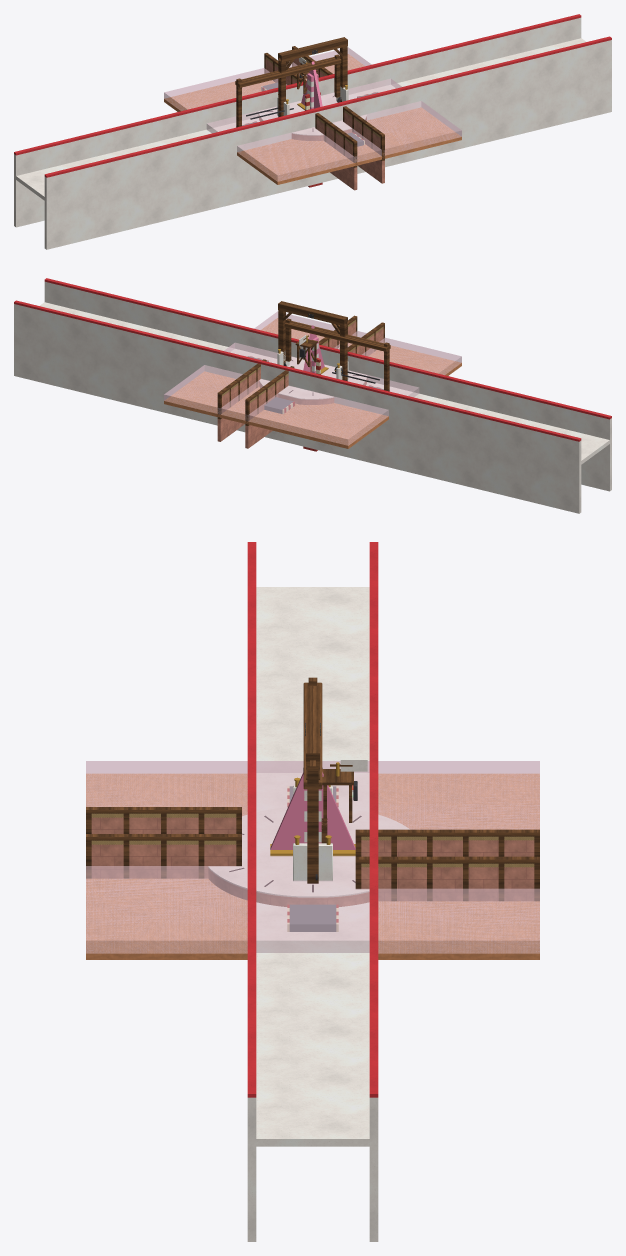
The model's file is sugarloaf_movers_pass5.fbx.
3 renders of one model, top to bottom at view 1: azimuth 30°, elevation 25°; view 2: azimuth 150°, elevation 25°; view 3: azimuth 270°, elevation 25°, orthographic. The views are drawn at different scales.
Visible parts, largest first — view 1: dam_crest_parapets__MintWhite, h07_gap_floor_mist__Mist, h07_gap_floor_mist__FloorSand, dam_crest_parapets__PepRed, h14_cableway_trestle__Timber, h07_bridge_parapets__SandBlock, h06_sluice_frame__Timber, h07_bridge_parapets__Timber, h17_plinth__MintWhite, h07_bridge_skirts__SandBlock, h17_plinth__Bubblegum; view 2: dam_crest_parapets__MintWhite, h07_gap_floor_mist__Mist, h07_gap_floor_mist__FloorSand, dam_crest_parapets__PepRed, h07_bridge_parapets__SandBlock, h14_cableway_trestle__Timber, h07_bridge_parapets__Timber, h06_sluice_frame__Timber, h17_plinth__MintWhite, h07_bridge_skirts__SandBlock, h09_windpump_hub__Timber, h17_plinth__SandBlock (+1 smaller); view 3: h07_gap_floor_mist__Mist, dam_crest_parapets__MintWhite, h07_gap_floor_mist__FloorSand, h07_bridge_parapets__SandBlock, dam_crest_parapets__PepRed, h07_bridge_parapets__Timber, h17_plinth__MintWhite, h07_bridge_parapets__Rope, h17_plinth__Bubblegum, h14_cableway_trestle__Timber, h17_plinth__SandBlock, h11_lock_chamber__MintWhite (+1 smaller).
Part boxes in pixels (x1=…): dam_crest_parapets__MintWhite: x1=14, y1=17, x2=611, y2=249; h07_gap_floor_mist__Mist: x1=164, y1=47, x2=461, y2=181; h07_gap_floor_mist__FloorSand: x1=164, y1=54, x2=461, y2=184; dam_crest_parapets__PepRed: x1=14, y1=14, x2=611, y2=177; h14_cableway_trestle__Timber: x1=278, y1=37, x2=347, y2=116; h07_bridge_parapets__SandBlock: x1=265, y1=58, x2=380, y2=161; h06_sluice_frame__Timber: x1=235, y1=54, x2=341, y2=127; h07_bridge_parapets__Timber: x1=264, y1=46, x2=384, y2=167; h17_plinth__MintWhite: x1=258, y1=79, x2=366, y2=135; h07_bridge_skirts__SandBlock: x1=330, y1=160, x2=384, y2=190; h17_plinth__Bubblegum: x1=301, y1=61, x2=322, y2=109; dam_crest_parapets__MintWhite: x1=14, y1=281, x2=611, y2=513; h07_gap_floor_mist__Mist: x1=164, y1=311, x2=461, y2=445; h07_gap_floor_mist__FloorSand: x1=164, y1=318, x2=461, y2=448; dam_crest_parapets__PepRed: x1=14, y1=278, x2=611, y2=441; h07_bridge_parapets__SandBlock: x1=222, y1=321, x2=383, y2=419; h14_cableway_trestle__Timber: x1=278, y1=301, x2=347, y2=381; h07_bridge_parapets__Timber: x1=217, y1=315, x2=384, y2=425; h06_sluice_frame__Timber: x1=284, y1=318, x2=390, y2=391; h17_plinth__MintWhite: x1=259, y1=343, x2=367, y2=399; h07_bridge_skirts__SandBlock: x1=217, y1=418, x2=272, y2=448; h09_windpump_hub__Timber: x1=295, y1=335, x2=317, y2=372; h17_plinth__SandBlock: x1=259, y1=378, x2=367, y2=404; h07_gap_floor_mist__Mist: x1=86, y1=761, x2=539, y2=953; dam_crest_parapets__MintWhite: x1=247, y1=587, x2=378, y2=1241; h07_gap_floor_mist__FloorSand: x1=86, y1=773, x2=539, y2=959; h07_bridge_parapets__SandBlock: x1=91, y1=817, x2=534, y2=901; dam_crest_parapets__PepRed: x1=247, y1=542, x2=378, y2=1097; h07_bridge_parapets__Timber: x1=86, y1=807, x2=539, y2=901; h17_plinth__MintWhite: x1=208, y1=790, x2=409, y2=897; h07_bridge_parapets__Rope: x1=91, y1=813, x2=534, y2=867; h17_plinth__Bubblegum: x1=270, y1=772, x2=355, y2=849; h14_cableway_trestle__Timber: x1=306, y1=688, x2=319, y2=883; h17_plinth__SandBlock: x1=208, y1=868, x2=369, y2=906; h11_lock_chamber__MintWhite: x1=293, y1=785, x2=332, y2=881.
Size of what is drawn, in the model's own units: 9200 by 2164 by 3200.
Materials: 90 (35 with a texture image).
